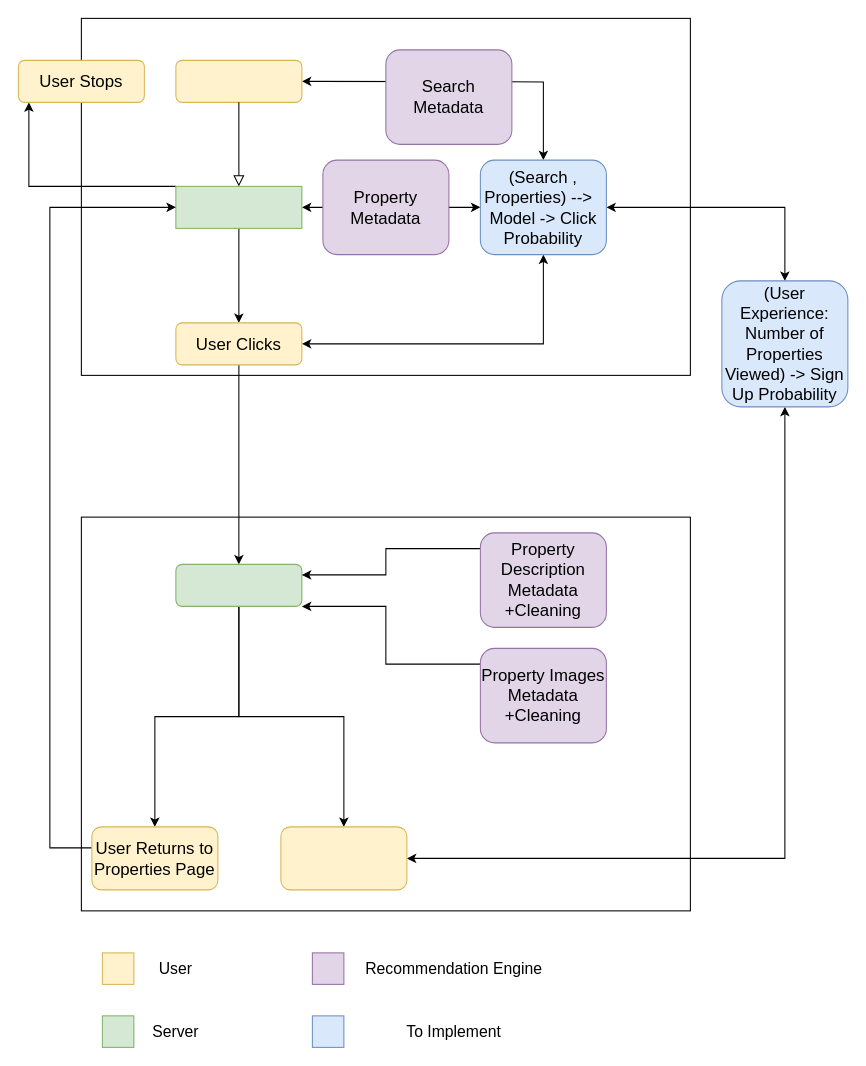
This 866x1066 diagram has some shape labels left out. The centre of each missing label's shape, as x and y in pixels:
Properties Presented: the point at 238,206
Property Page Presented: the point at 238,584
User fills in questionaire: the point at 238,80
User signs up to Request viewing: the point at 343,858
